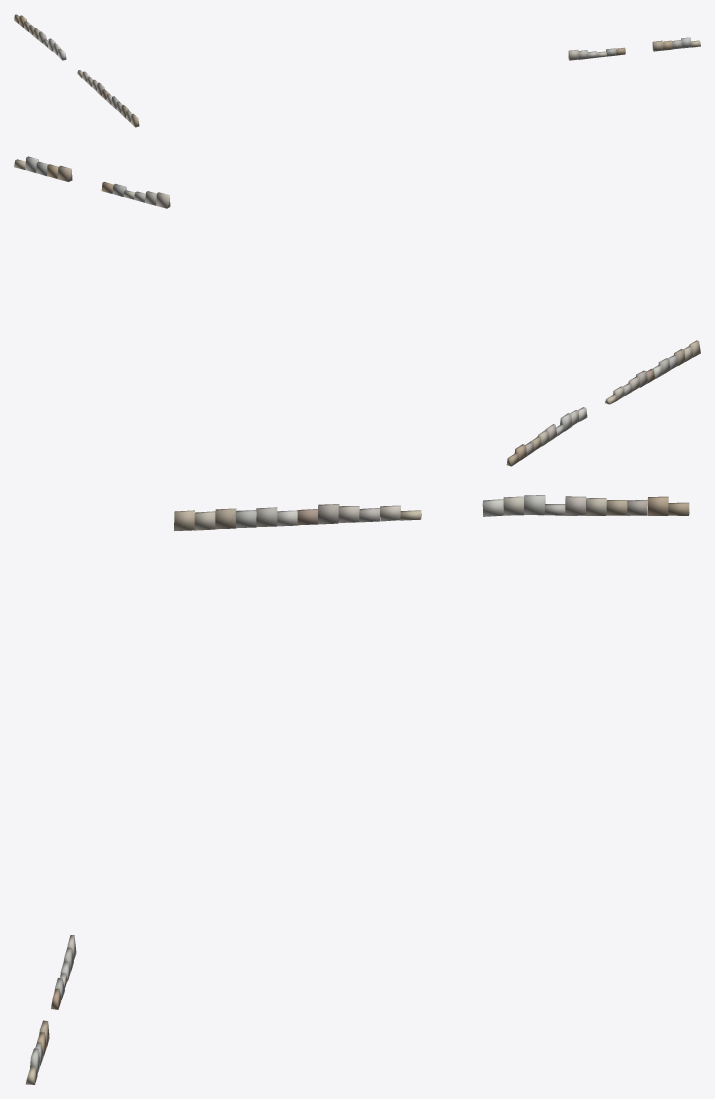
The model's file is farm_22_20_far.glb.
3 renders of one model, top to bottom at view 1: azimuth 30°, elevation 25°; view 2: azimuth 150°, elevation 25°; view 3: azimuth 270°, elevation 25°, orthographic. The views are drawn at different scales.
Parts seen in each view (by area): view 1: geometry_0; view 2: geometry_0; view 3: geometry_0.
Boxes of the visible parts, x1,y1,x2,y2 form: geometry_0: (14, 14, 700, 127); geometry_0: (14, 156, 700, 466); geometry_0: (25, 495, 689, 1084).
Bounding box in the file's own units: 94.31 × 6.8 × 51.26.
